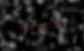eight: (23, 21, 28, 32)
one: (47, 19, 52, 30), (17, 22, 22, 32)
seven: (35, 20, 40, 31)
six: (59, 18, 64, 29)
two: (29, 21, 34, 31), (41, 20, 46, 30)
zero: (53, 19, 58, 29)
